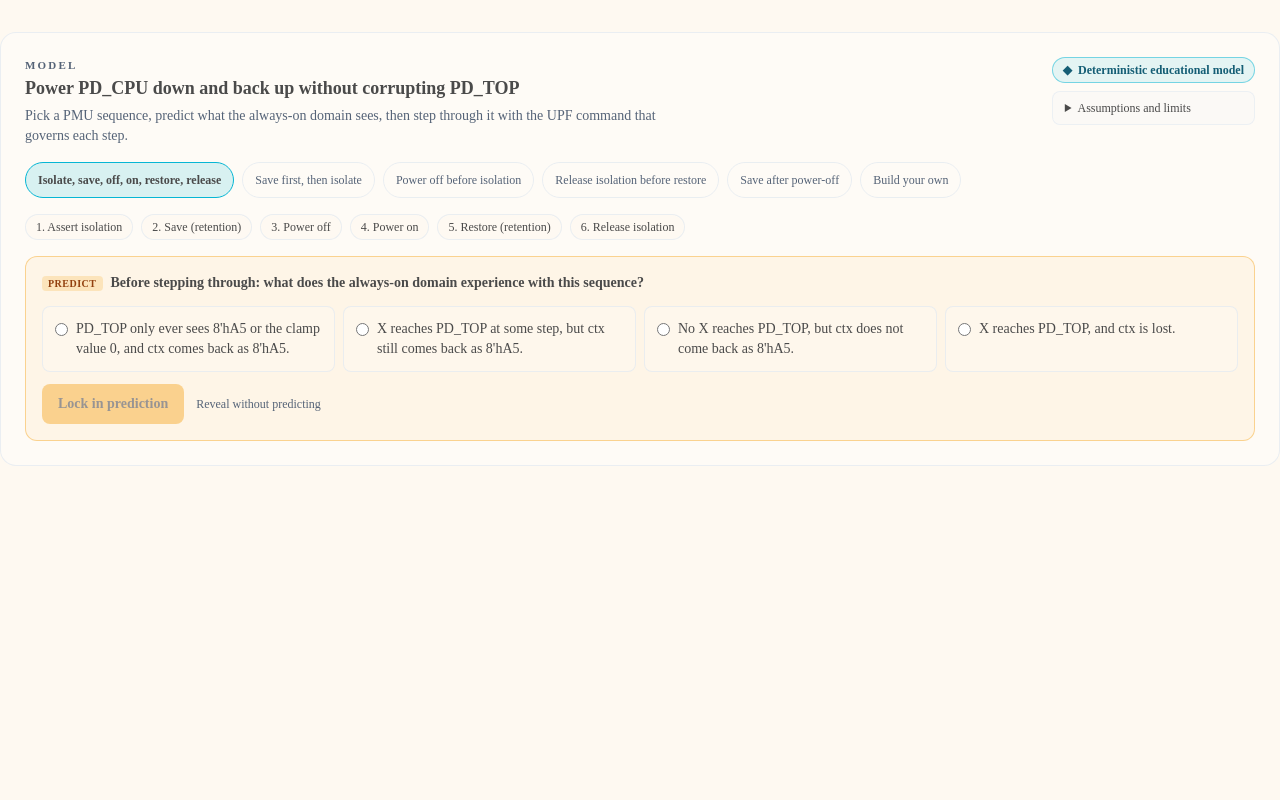
Test: PowerDomainVisualizer › gates the sequence behind a prediction and diagnoses a wrong guess
The width and height of the screenshot is (1280, 800).
Check: the element named "Power domain sequence model" is shown, box x1=0 y1=32 x2=1279 y2=466
Step 1. Click the radio button labelled "X reaches PD_TOP at some step, but ctx" → (362, 329), box x1=356 y1=322 x2=369 y2=336
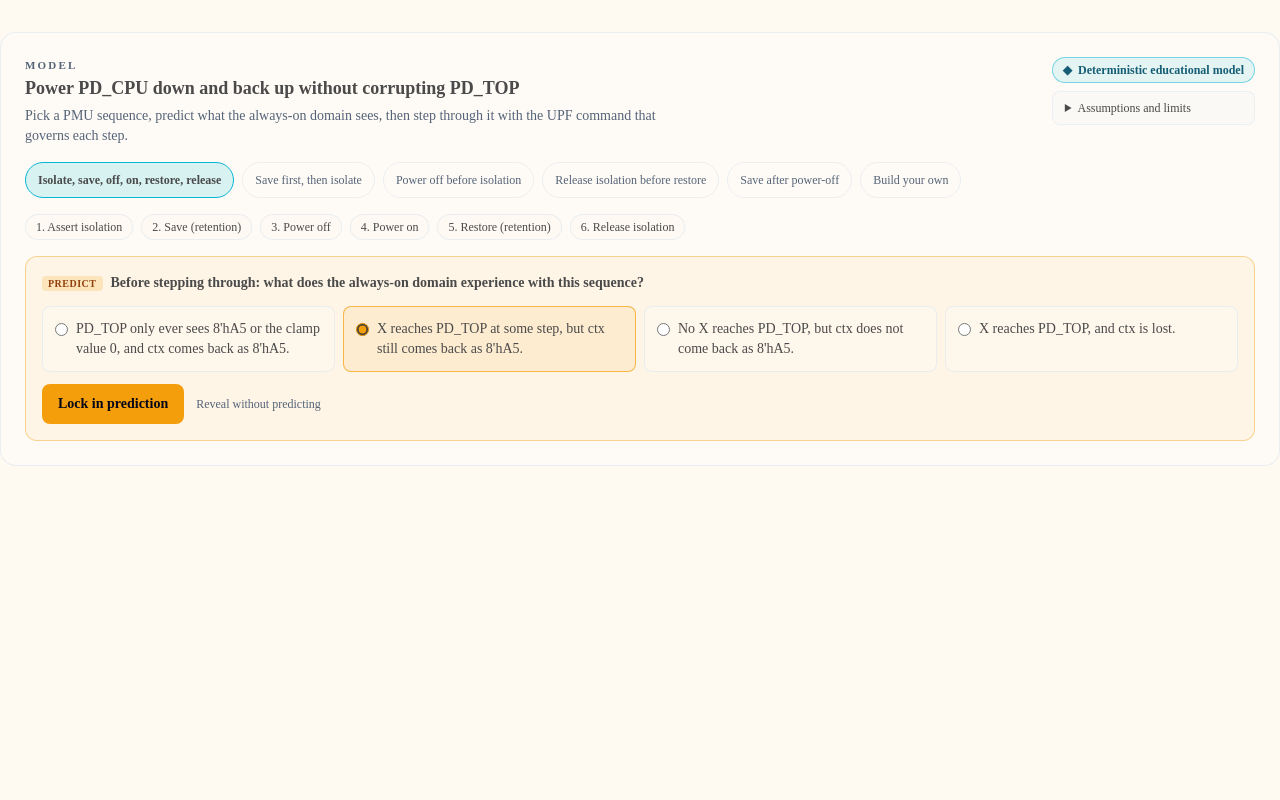
Step 2. Click the button "Lock in prediction" → (113, 404), box x1=42 y1=384 x2=184 y2=424
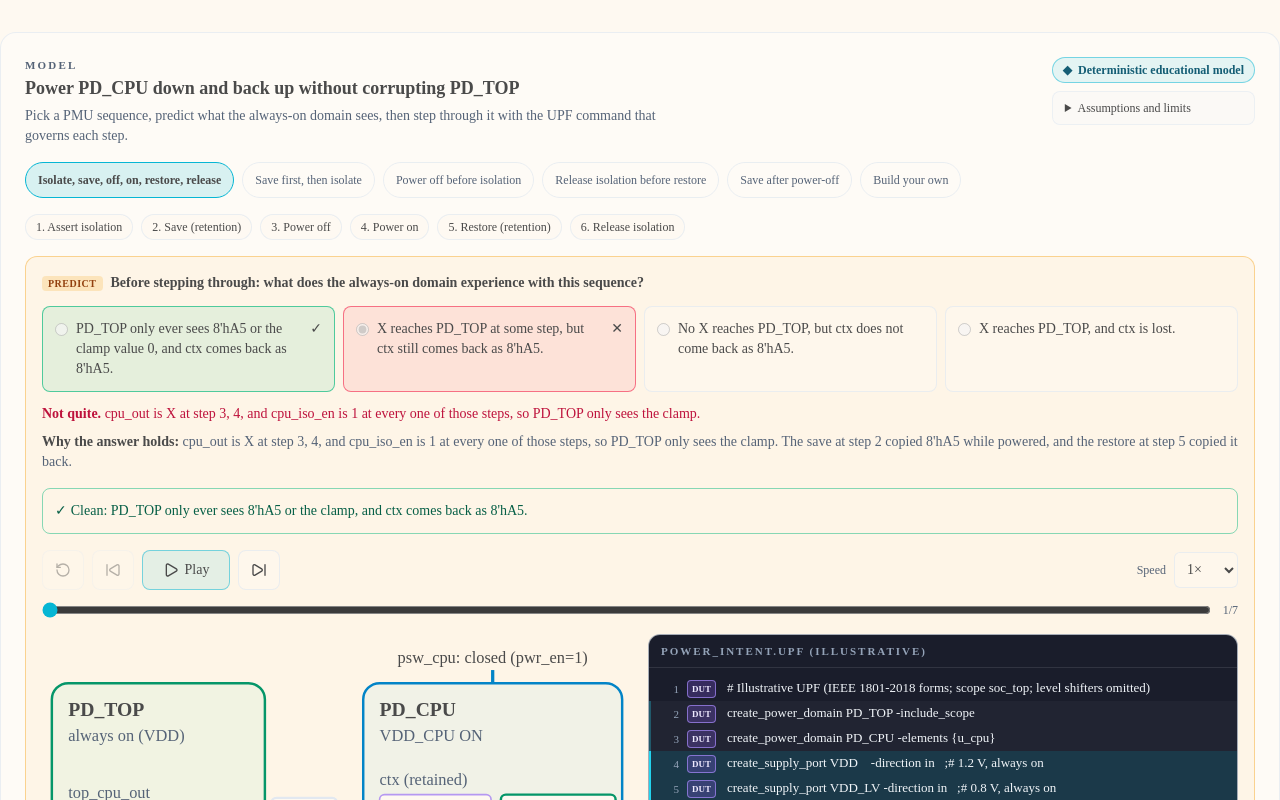
Check: the text "Not quite." is shown, box x1=42 y1=406 x2=105 y2=420
Check: the text "cpu_iso_en is 1 at every one of those steps" is shown, box x1=105 y1=406 x2=700 y2=420
Check: the element named "PMU step playback controls" is shown, box x1=42 y1=550 x2=1238 y2=618
